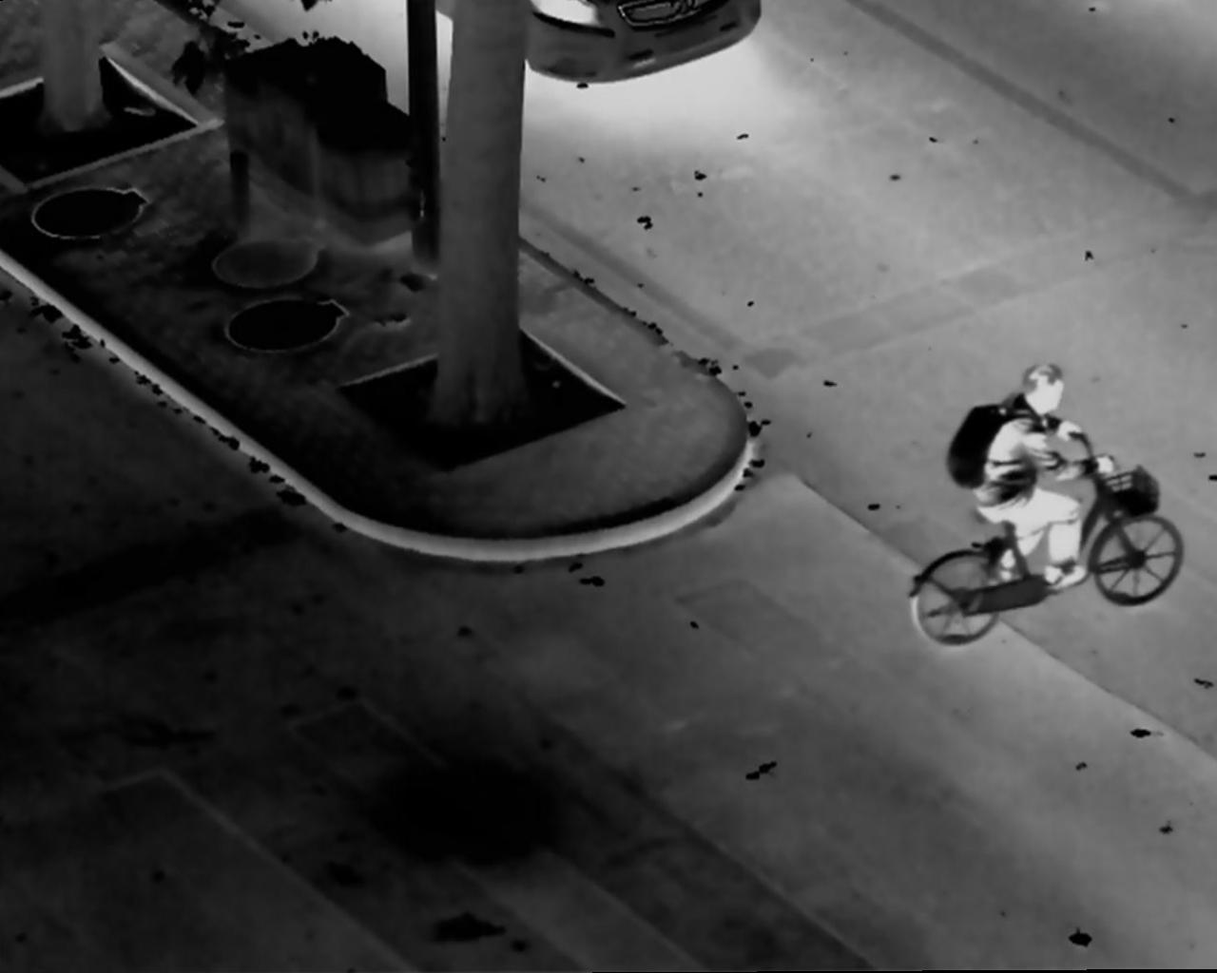person: (946, 354, 1133, 590)
